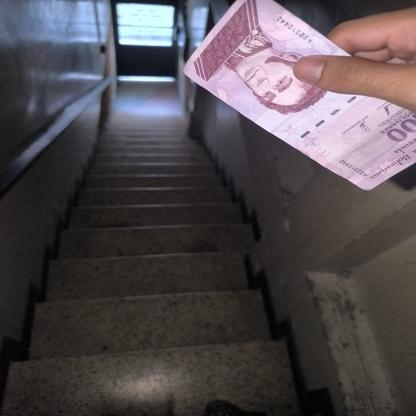one_hundred-front-vef: (182, 0, 416, 191)
